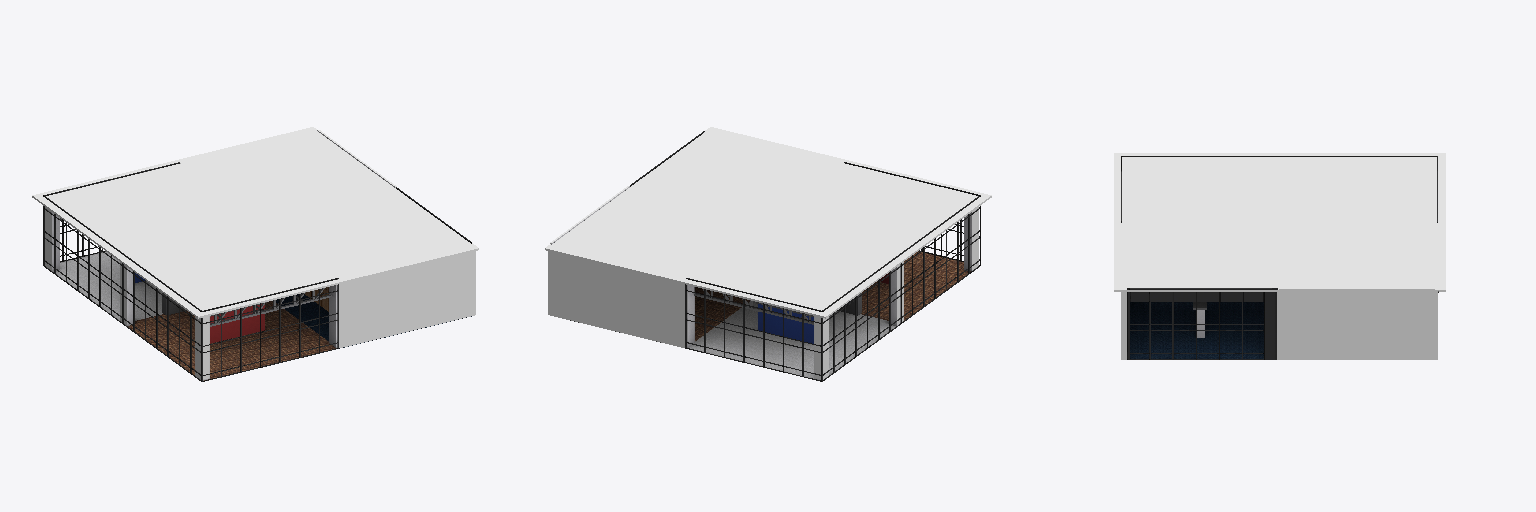
3 renders of one model, left to right at view 1: azimuth 30°, elevation 25°; view 2: azimuth 150°, elevation 25°; view 3: azimuth 270°, elevation 25°, orthographic.
Visible parts, largest first — view 1: Box043, Plane001, Box005, Box016, Box020, Box045, Box040; view 2: Box043, Plane001, Box002, Box016, Box020, Box045; view 3: Box043, Box002, Plane001, Box016, Box005.
Part boxes in pixels (x1,y1,x2,y2): Box043: (32, 127, 478, 318); Plane001: (52, 251, 471, 380); Box005: (337, 251, 475, 347); Box016: (43, 162, 471, 381); Box020: (45, 207, 336, 380); Box045: (135, 273, 266, 343); Box040: (60, 218, 331, 326); Box043: (545, 127, 991, 318); Plane001: (689, 251, 970, 378); Box002: (548, 186, 684, 347); Box016: (630, 131, 980, 381); Box020: (687, 207, 978, 379); Box045: (756, 273, 888, 343); Box043: (1114, 153, 1445, 291); Box002: (1279, 288, 1437, 359); Plane001: (1130, 302, 1263, 358); Box016: (1121, 156, 1438, 359); Box005: (1121, 291, 1282, 359).
Bounding box in the file's own units: 144 × 34.67 × 147.
Materials: 9 (9 with a texture image).